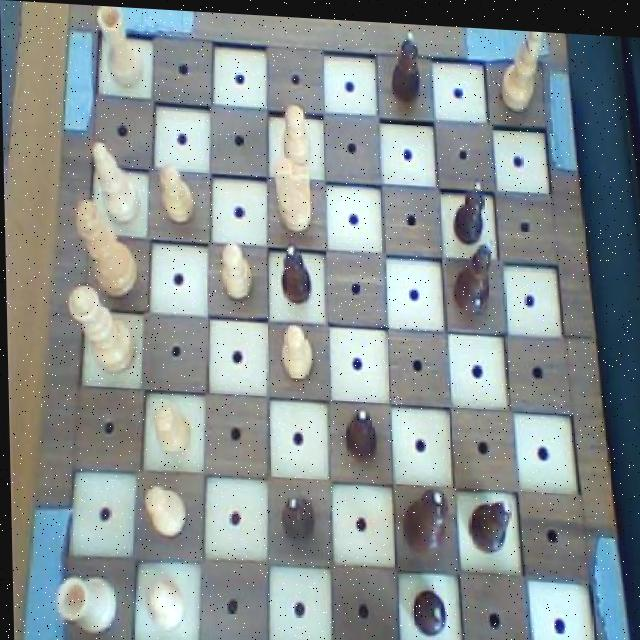bishop: (450, 229, 497, 318), (463, 484, 512, 555)
black-bishop: (401, 478, 452, 554)
black-knight: (387, 20, 427, 102), (450, 168, 490, 241), (339, 394, 379, 465), (274, 482, 315, 543), (275, 237, 312, 304), (405, 577, 443, 636)
black-rook: (88, 137, 141, 226), (494, 23, 543, 113)
white-bishop: (71, 192, 140, 301)
white-king: (269, 153, 319, 236)
white-knight: (215, 236, 257, 303), (141, 482, 187, 541), (277, 94, 313, 167), (155, 163, 195, 227), (141, 572, 184, 631), (149, 400, 191, 457), (276, 319, 315, 380)
white-pawn: (63, 280, 138, 376)
white-queen: (92, 4, 149, 90), (49, 566, 117, 636)
